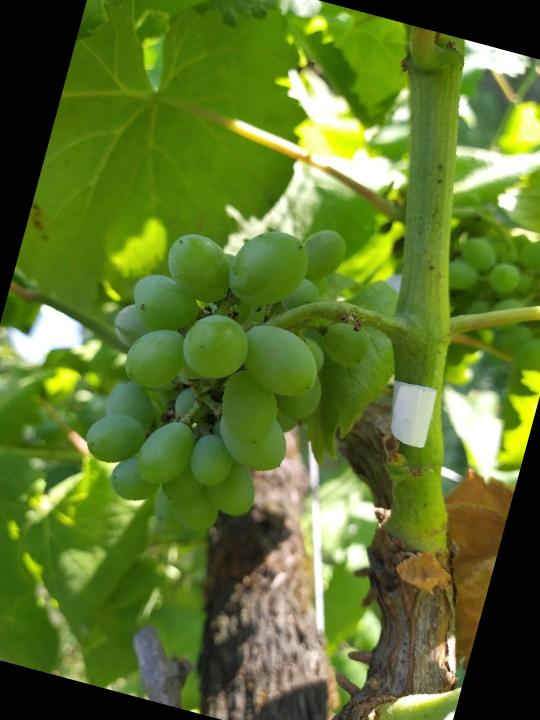grape: (65, 177, 397, 570)
